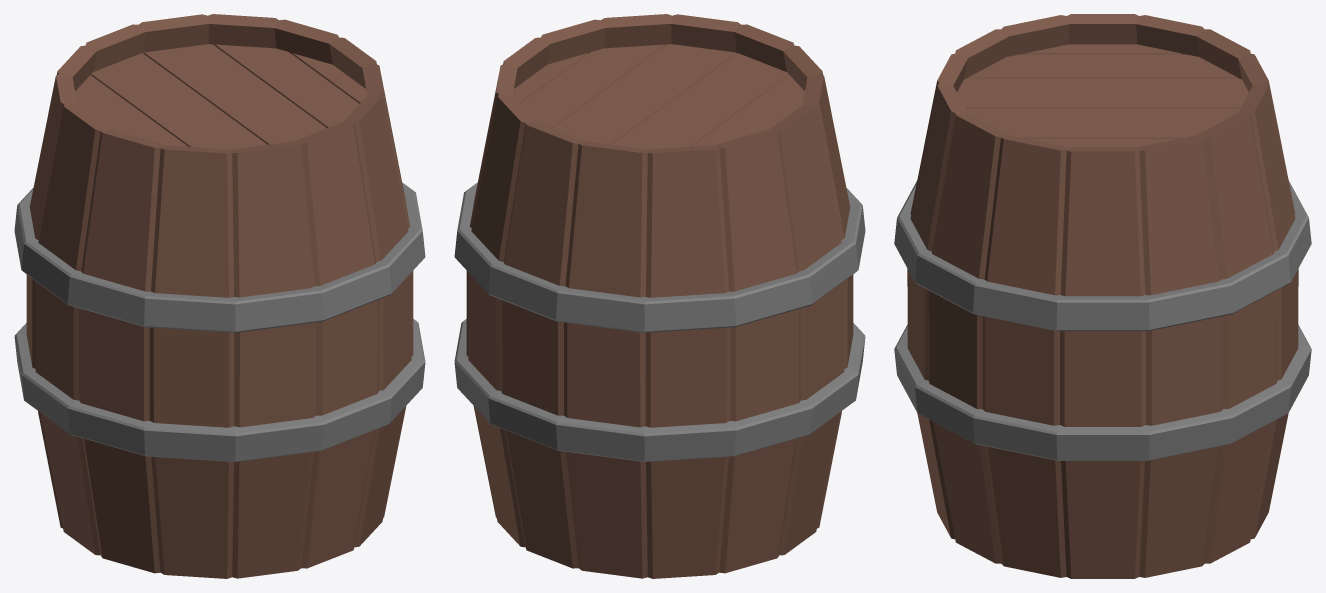
File: SM_Barrel_01.fbx
The picture shows the model from 3 angles, left to right: view 1: azimuth 30°, elevation 25°; view 2: azimuth 150°, elevation 25°; view 3: azimuth 270°, elevation 25°; orthographic projection.
Parts seen in each view (by area): view 1: SM_Barrel_01; view 2: SM_Barrel_01; view 3: SM_Barrel_01.
Part boxes in pixels (left/top/right/bottom): SM_Barrel_01: left=14, top=14, right=425, bottom=578; SM_Barrel_01: left=454, top=14, right=865, bottom=578; SM_Barrel_01: left=894, top=14, right=1311, bottom=578.
Bounding box in the file's own units: 0.9264 × 1.07 × 0.9503.
